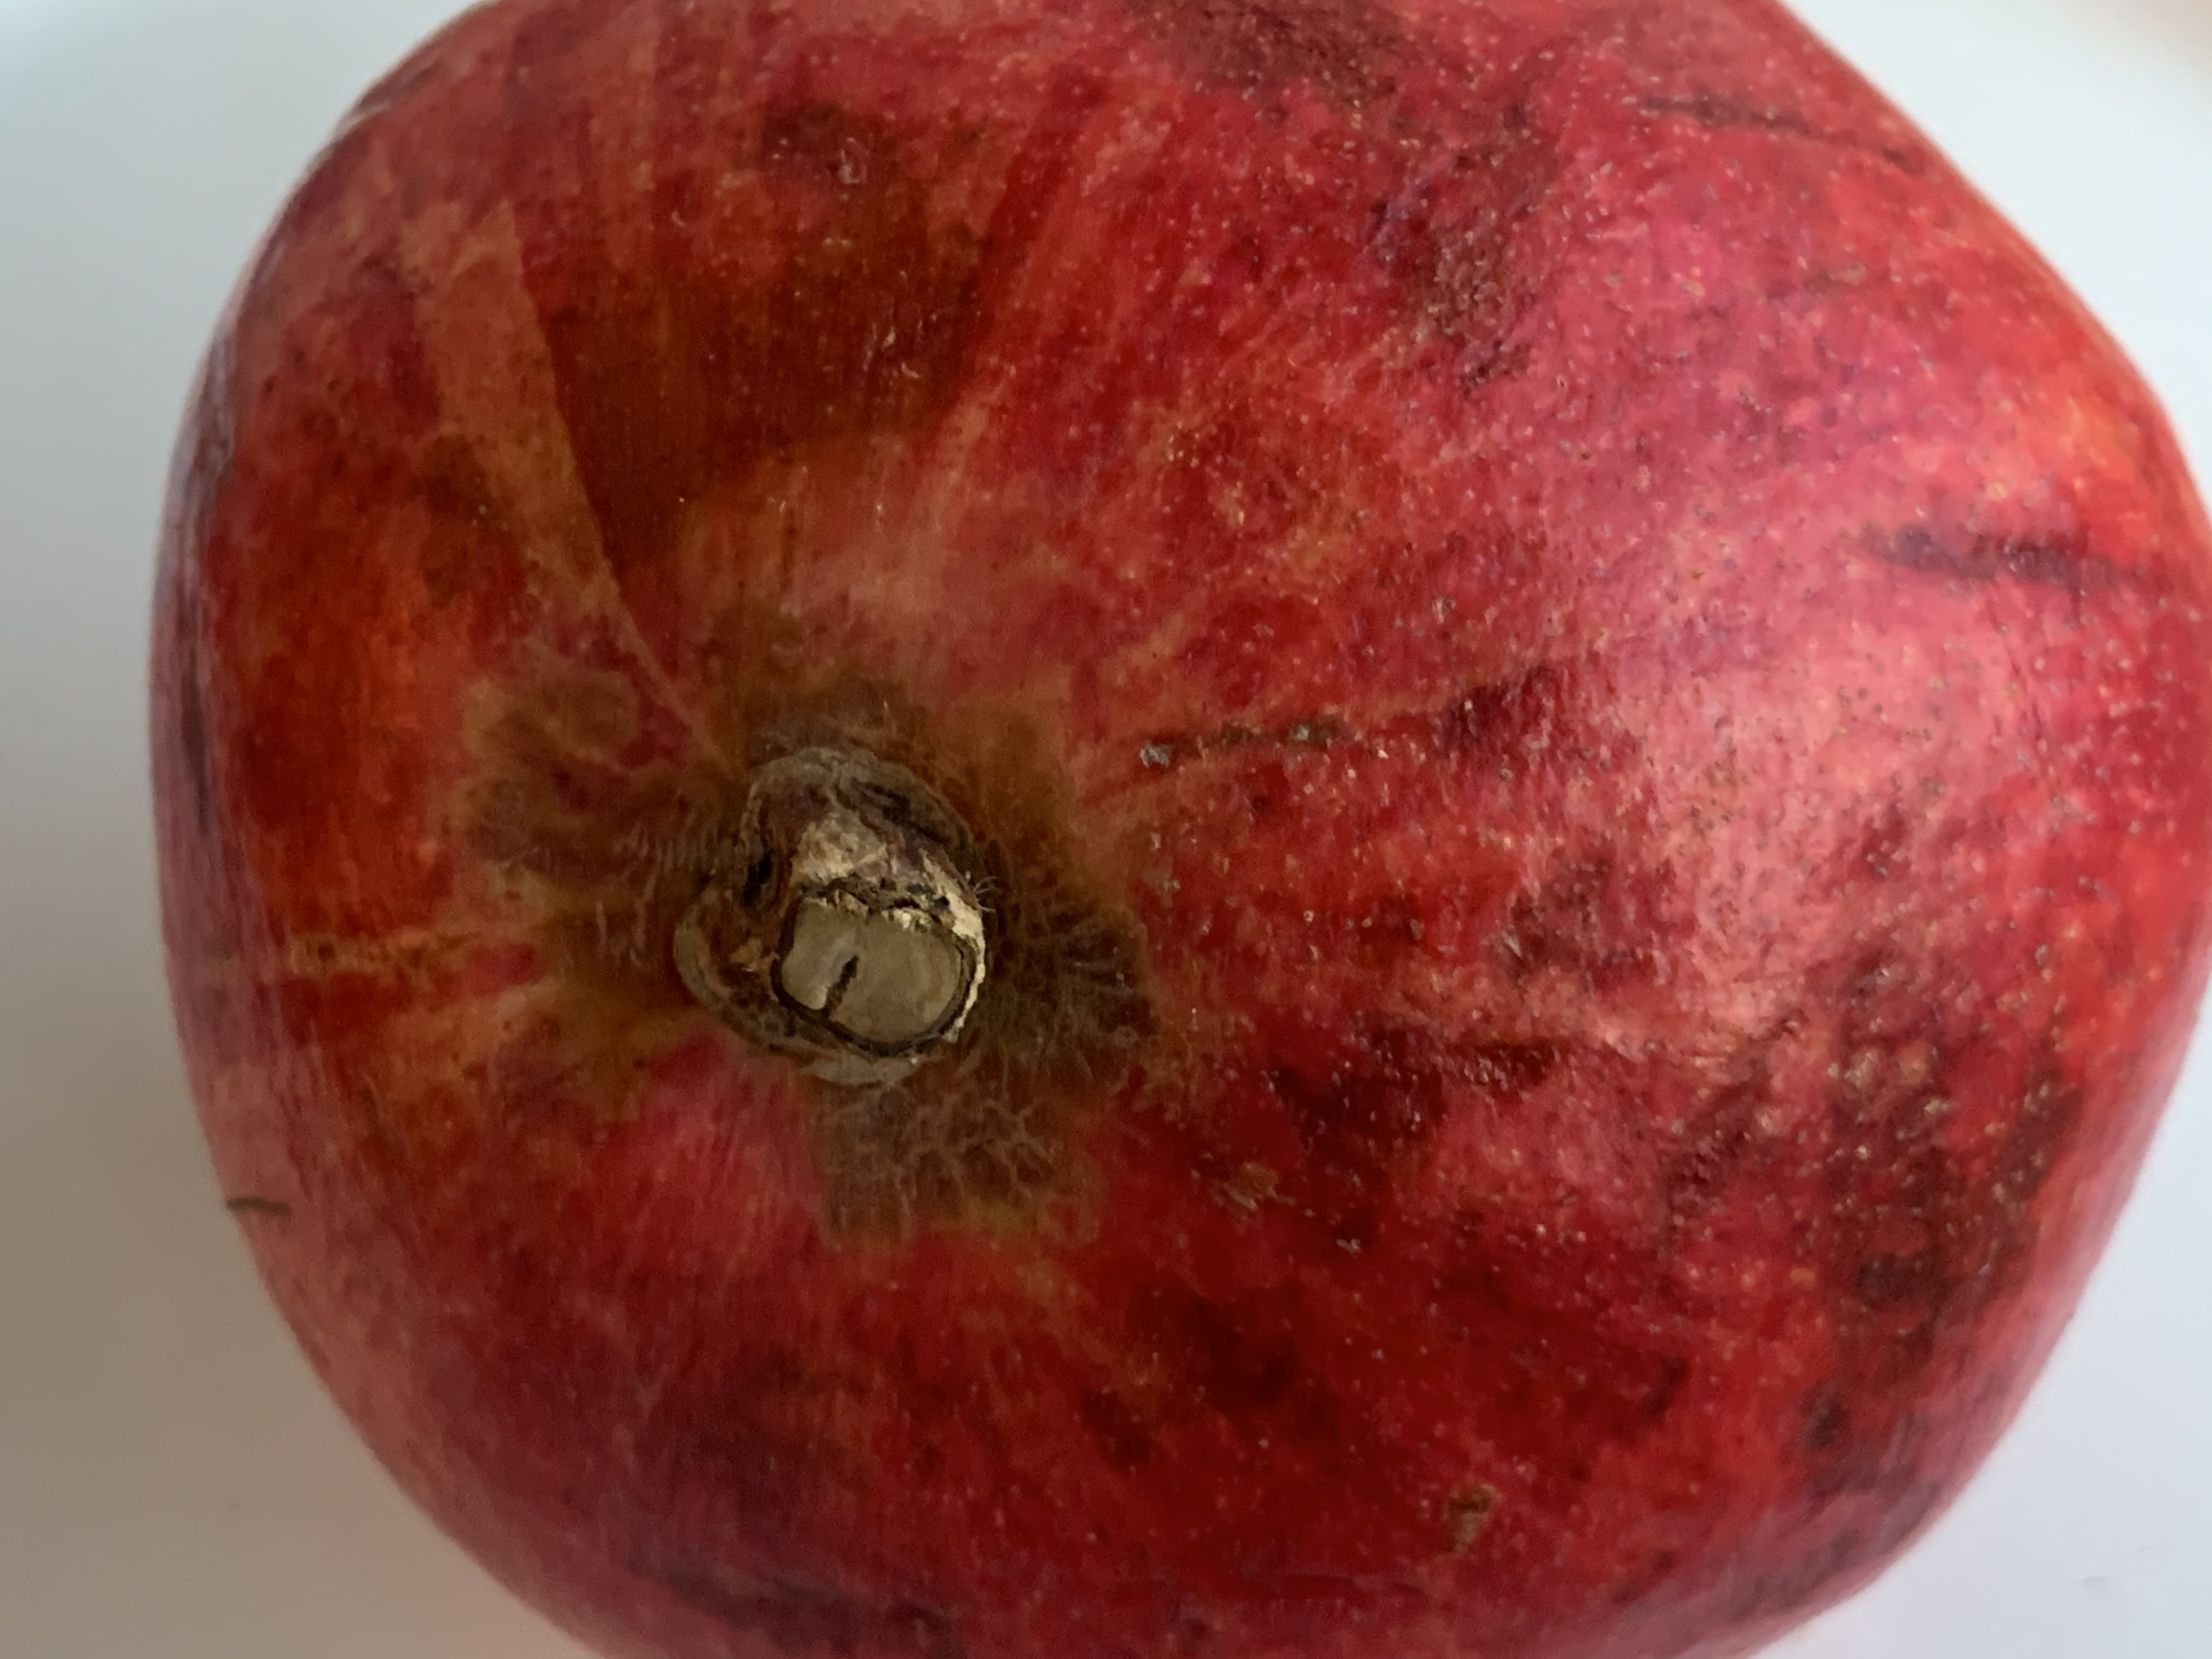Pomegranate: (127, 9, 2193, 1659)
